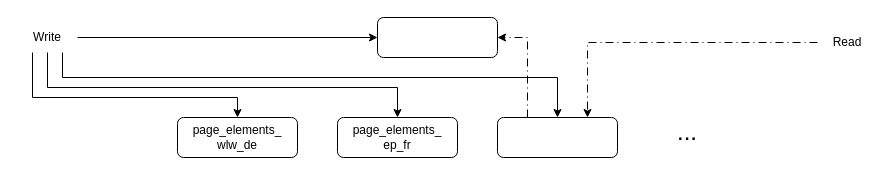
The diagram is 894 pixels wide and 175 high, and some of its shapes have lost their labels. The box of each missing label's shape, as (x1, y1, x2, y2) in pixels:
page_elements: (376, 16, 498, 58)
page_elements_ ep_it: (496, 116, 618, 158)
